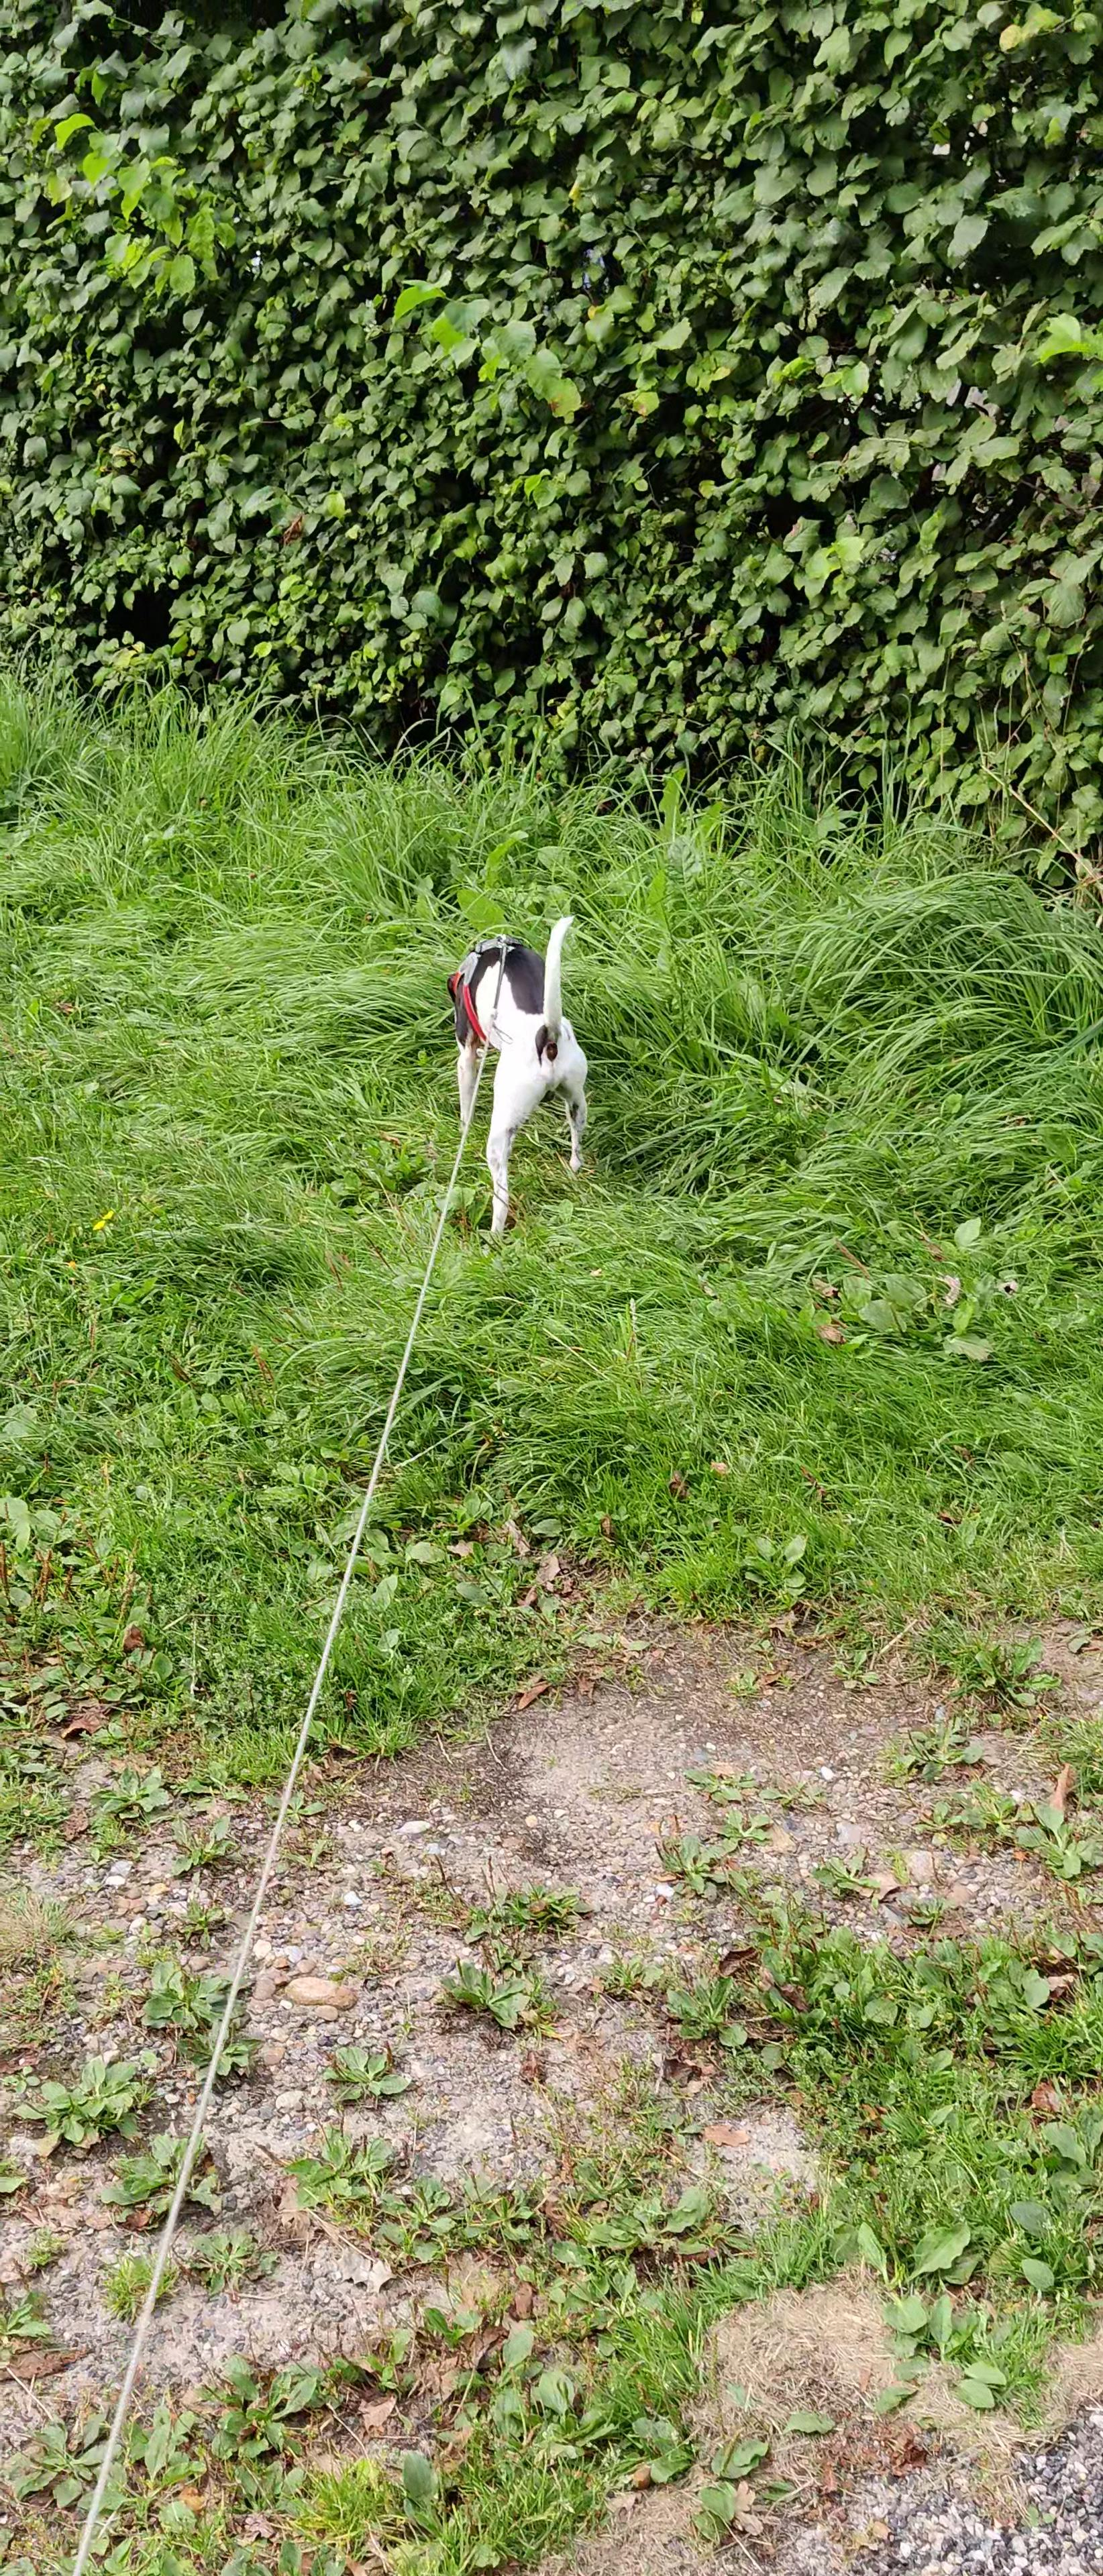Dog: (439, 907, 610, 1240)
